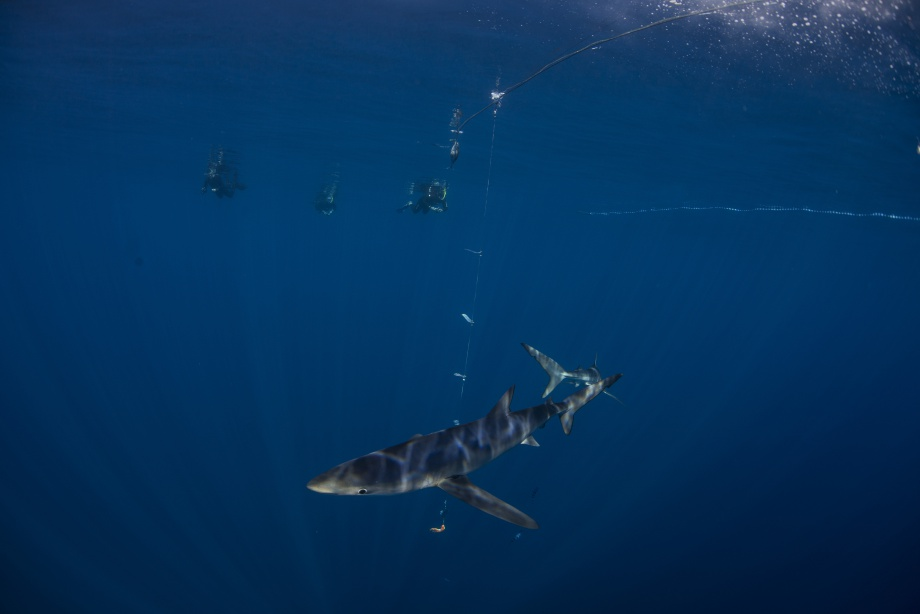Azul: (288, 333, 625, 534)
